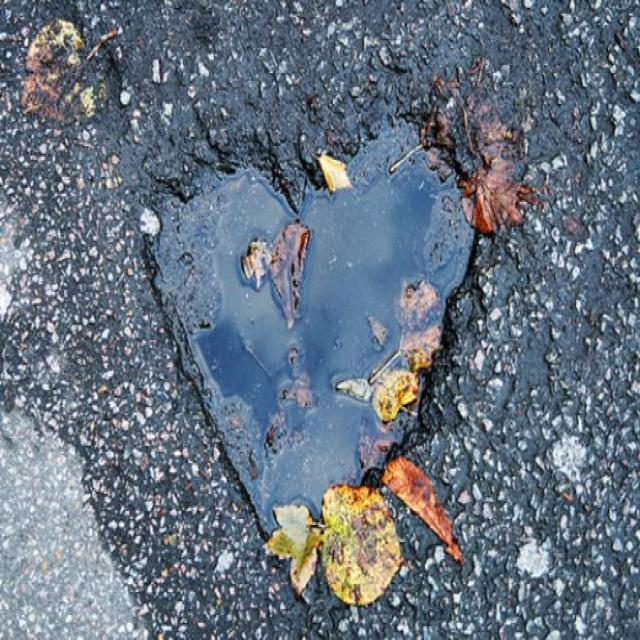pothole: (132, 99, 482, 581)
